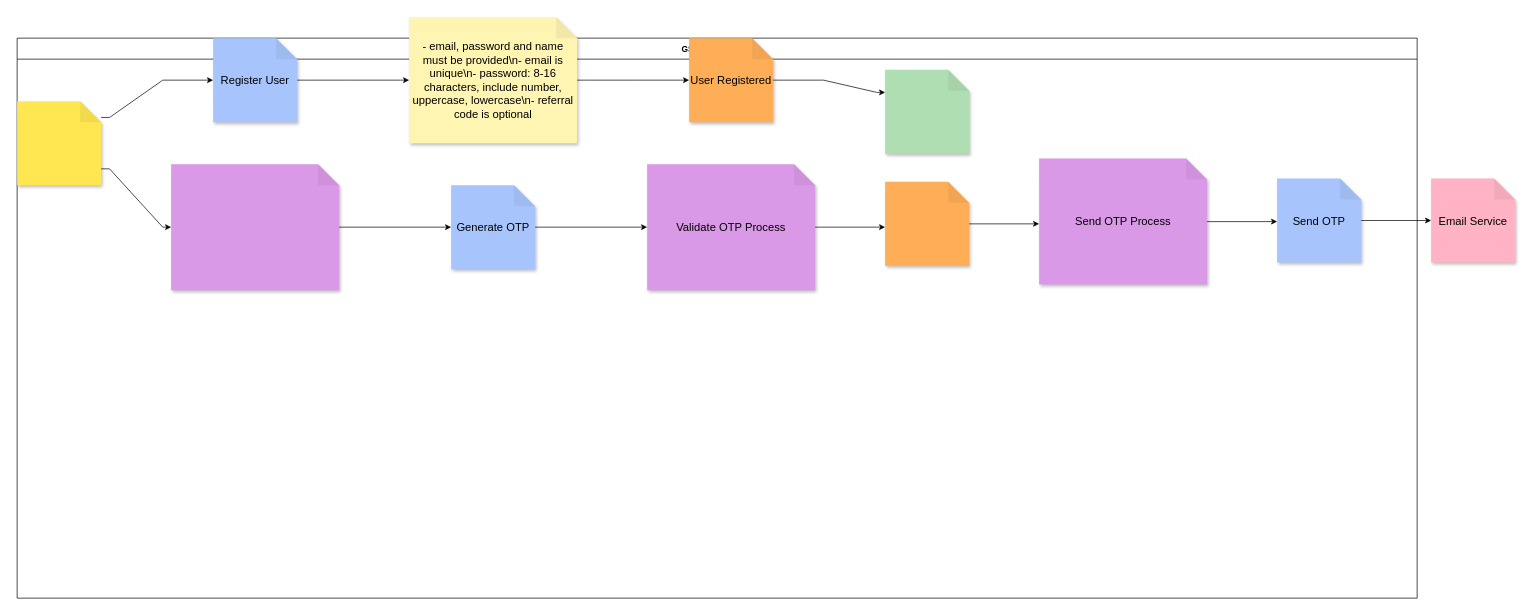
This 1532x610 diagram has some shape labels left out. Here are the shapes that lost their labels. From the top down, the centre of each, then its label:
At (927,112): "Draft User Profile".
At (59,144): "User".
At (255,228): "Generate OTP Process".
At (927,224): "Register OTP Generated".
